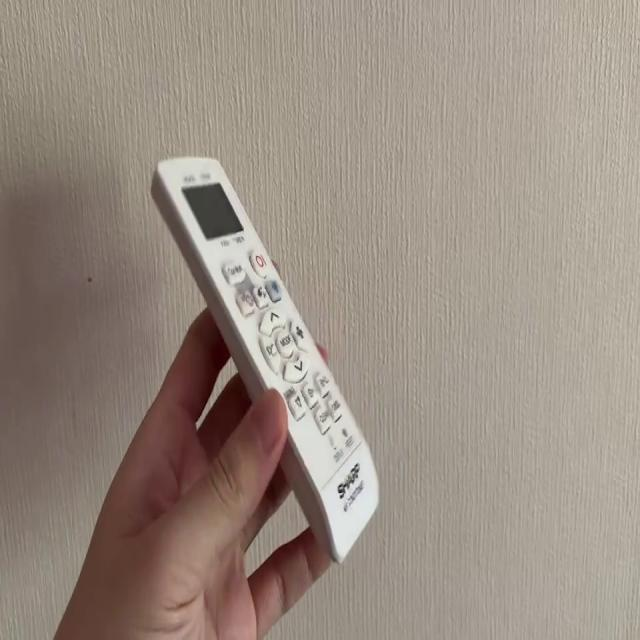remote: (152, 153, 380, 561)
